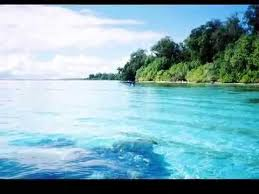forest: (146, 32, 259, 80)
mountain: (129, 19, 258, 85)
sea: (2, 81, 259, 180)
sky: (1, 7, 206, 79)
